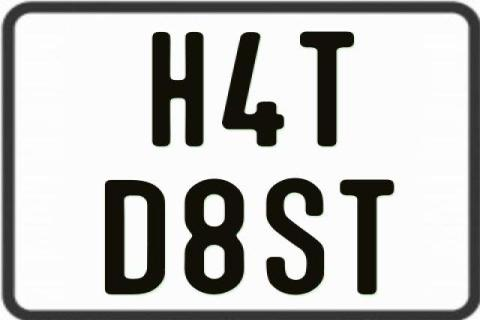0: (221, 30, 285, 146), (182, 178, 242, 298)
D: (102, 177, 166, 293)
H: (150, 31, 207, 151)
S: (264, 179, 325, 299)
T: (340, 180, 398, 298), (300, 32, 357, 150)
